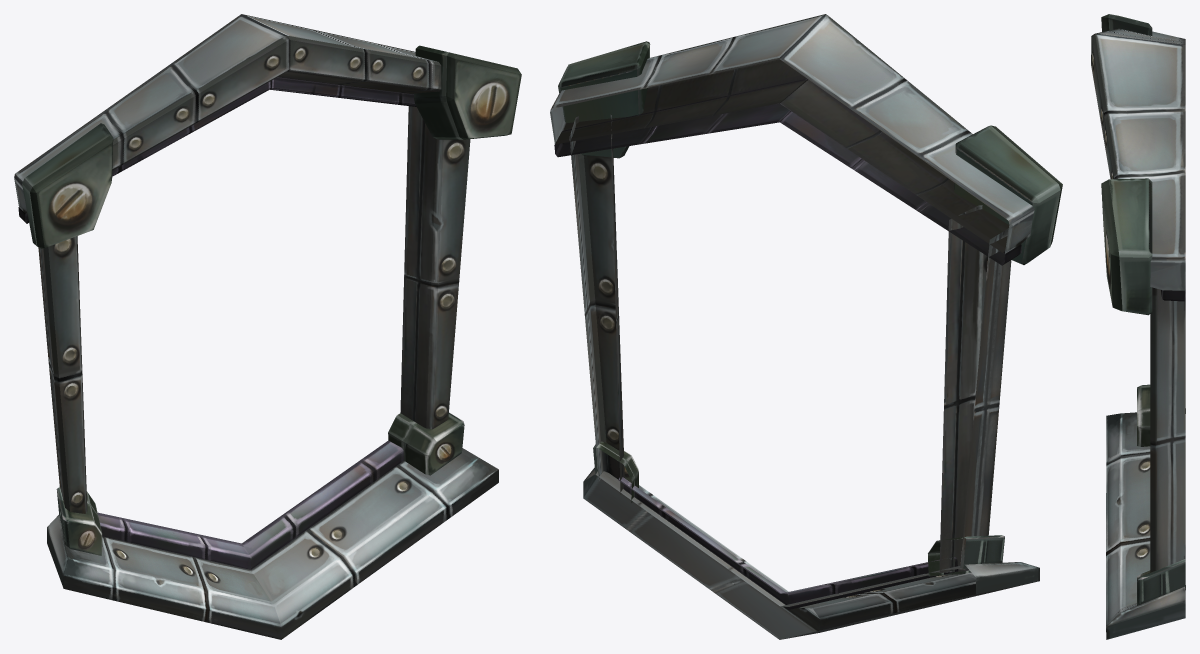
The model's file is generic_frame.FBX.
The picture shows the model from 3 angles, left to right: view 1: azimuth 30°, elevation 25°; view 2: azimuth 150°, elevation 25°; view 3: azimuth 270°, elevation 25°; orthographic projection.
Parts seen in each view (by area): view 1: generic_lower_01, generic_upper_02, generic_right_01, generic_left_01, generic_lower_02, generic_corner_upper_left, generic_corner_upper_right, generic_upper_01, generic_corner_lower_right, generic_corner_lower_left; view 2: generic_upper_02, generic_left_01, generic_lower_01, generic_right_01, generic_upper_01, generic_corner_upper_left, generic_corner_upper_right, generic_lower_02, generic_corner_lower_left, generic_corner_lower_right; view 3: generic_upper_02, generic_lower_01, generic_right_01, generic_corner_upper_right, generic_corner_lower_right, generic_corner_lower_left, generic_corner_upper_left, generic_upper_01.
Boxes of the visible parts, x1,y1,x2,y2 form: generic_lower_01: (47,448,498,639); generic_upper_02: (14,14,441,213); generic_right_01: (400,106,470,429); generic_left_01: (38,236,87,513); generic_lower_02: (97,440,403,569); generic_corner_upper_left: (22,123,113,248); generic_corner_upper_right: (414,45,521,139); generic_upper_01: (18,77,416,223); generic_corner_lower_right: (388,412,464,475); generic_corner_lower_left: (56,487,102,555); generic_upper_02: (550,14,1034,253); generic_left_01: (939,205,1011,572); generic_lower_01: (583,468,1039,639); generic_right_01: (569,115,624,494); generic_upper_01: (554,78,1021,265); generic_corner_upper_left: (954,125,1062,264); generic_corner_upper_right: (558,41,650,158); generic_lower_02: (618,477,958,609); generic_corner_lower_left: (928,535,1004,576); generic_corner_lower_right: (593,441,638,502); generic_upper_02: (1091,28,1185,290); generic_lower_01: (1106,412,1185,639); generic_right_01: (1150,278,1185,572); generic_corner_upper_right: (1101,178,1152,315); generic_corner_lower_right: (1137,559,1185,605); generic_corner_lower_left: (1137,384,1185,446); generic_corner_upper_left: (1101,14,1152,35); generic_upper_01: (1160,288,1185,301).
Bounding box in the file's own units: 2.71 × 3.21 × 0.4567.
Materials: 1 (1 with a texture image).
